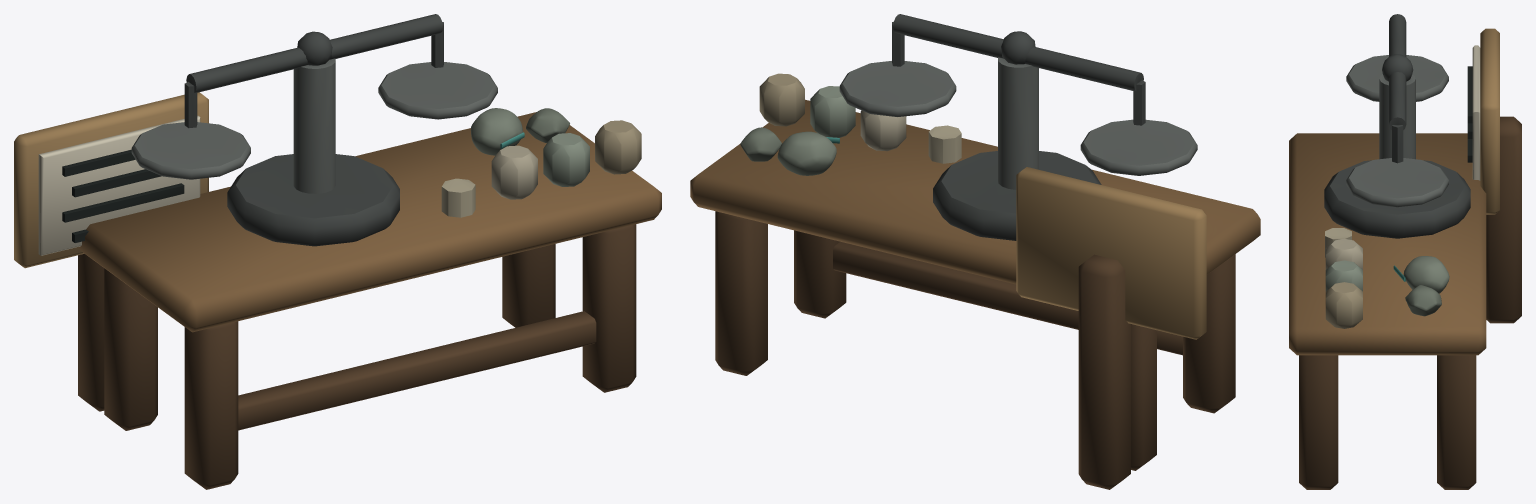
File: assay_bench_a.glb
The picture shows the model from 3 angles, left to right: view 1: azimuth 30°, elevation 25°; view 2: azimuth 150°, elevation 25°; view 3: azimuth 270°, elevation 25°; orthographic projection. The views are drawn at different scales.
Visible parts, largest first — view 1: Surface; view 2: Surface; view 3: Surface.
Boxes of the visible parts, box(x1,y1,x2,y2) form: Surface: box(14, 14, 661, 489); Surface: box(690, 14, 1260, 489); Surface: box(1289, 14, 1521, 489).
Bounding box in the file's own units: 2.69 × 1.82 × 1.18.
